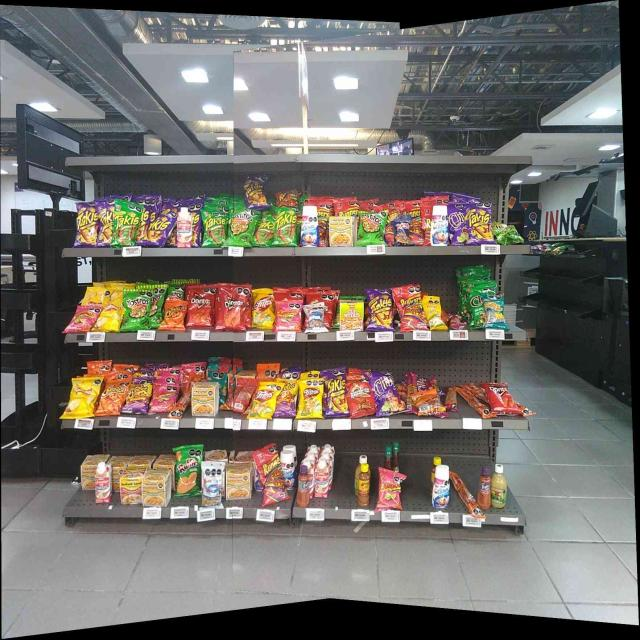bitzEnchilado95: (452, 473, 476, 516)
bokadosCacahuates: (391, 215, 410, 245)
botaneraChilito: (358, 464, 369, 508)
cheetosFlaminHot: (126, 379, 149, 413), (278, 380, 297, 418)
cheetosOriginal: (98, 381, 124, 416), (164, 300, 184, 331)
chipsFuego: (374, 372, 398, 414), (450, 204, 466, 246)
chipsJalapeno: (468, 293, 480, 329)
churrumais: (378, 474, 402, 511), (276, 302, 300, 331), (73, 306, 97, 331), (151, 386, 173, 410)
delPrimoSalsa: (491, 464, 506, 509)
doritosNacho: (217, 284, 245, 330), (188, 288, 214, 330), (488, 383, 510, 412)
fritosLimon: (298, 380, 324, 420), (251, 290, 274, 330), (254, 385, 275, 419)
leoCacahuates: (200, 461, 223, 509), (303, 304, 327, 333)
maruchanPollo: (144, 471, 170, 506), (226, 465, 251, 499), (328, 216, 355, 246), (193, 383, 216, 416), (82, 463, 94, 490)
maruchanRes: (120, 472, 142, 505)
nestleCarnation: (176, 208, 192, 248), (96, 465, 111, 502), (315, 461, 328, 498)
nestleLechera: (302, 206, 318, 248), (432, 206, 447, 246), (434, 468, 449, 507), (284, 452, 295, 488)
nissinCamaron: (340, 302, 363, 332)
productoAtras: (228, 381, 250, 412), (413, 394, 442, 414)
rancheritos: (347, 381, 373, 416)
rufflesQueso: (174, 447, 200, 496)
runners: (254, 448, 282, 506), (394, 289, 423, 331), (413, 203, 425, 245), (320, 200, 328, 247), (333, 201, 358, 214)
sabritasOriginal: (68, 378, 97, 416), (102, 300, 120, 332)
semillasCalabaza: (424, 297, 442, 330)
semillasGirasol: (483, 295, 505, 328)
tajinDulce: (298, 467, 310, 507), (478, 467, 489, 509)
takisFuego: (368, 291, 392, 331), (468, 203, 491, 243), (326, 371, 346, 416), (77, 204, 97, 246), (145, 214, 171, 246), (245, 177, 268, 210), (98, 200, 112, 245)
takisOriginal: (115, 203, 138, 246), (202, 209, 226, 246), (275, 208, 296, 248), (257, 216, 273, 245)
tostitos: (123, 288, 148, 329), (229, 212, 255, 246), (360, 212, 384, 245), (150, 285, 162, 325)
